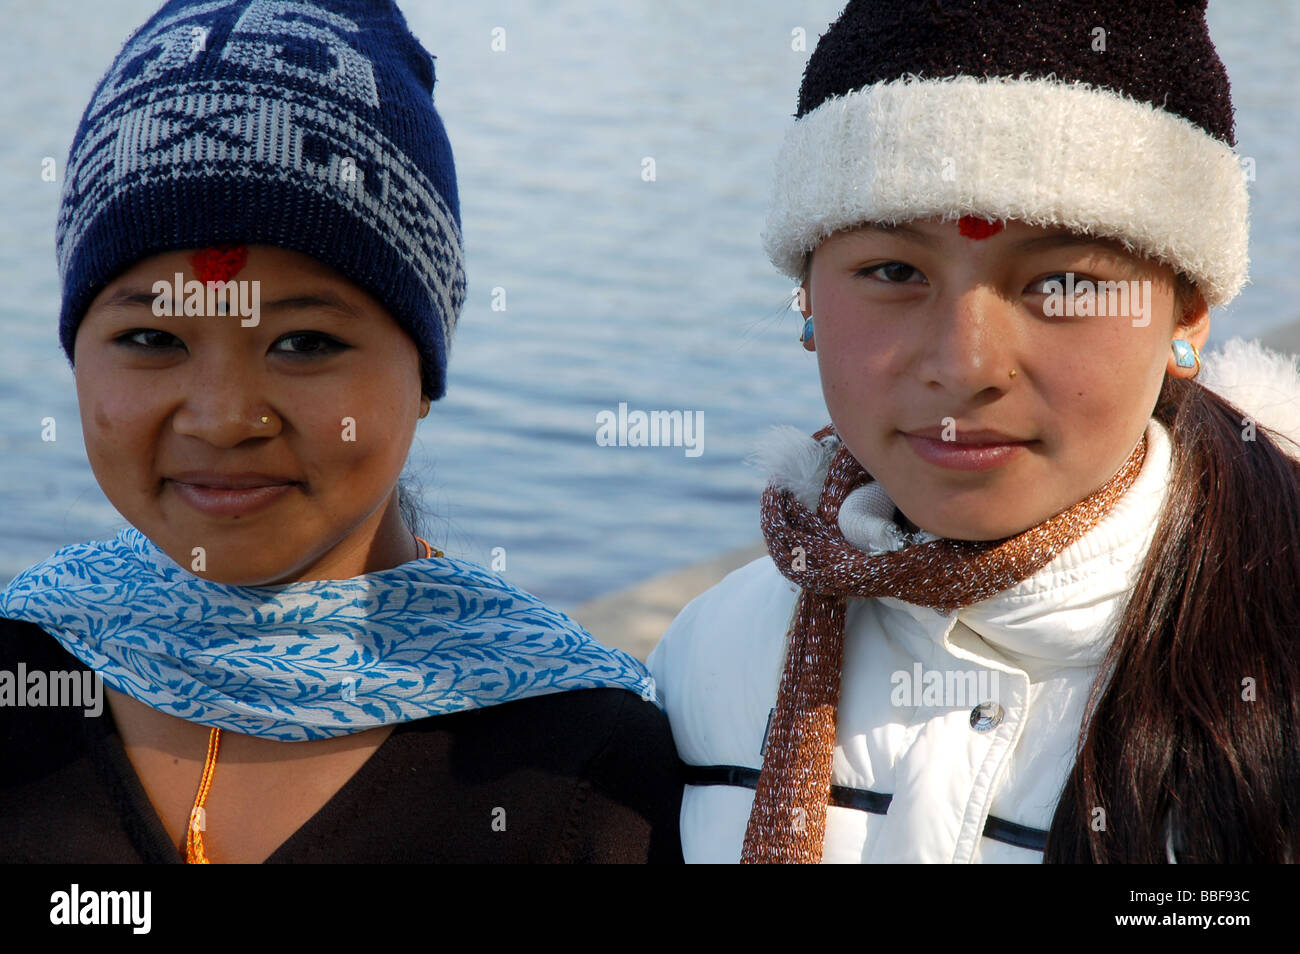human: (1, 1, 687, 874), (639, 1, 1300, 866)
